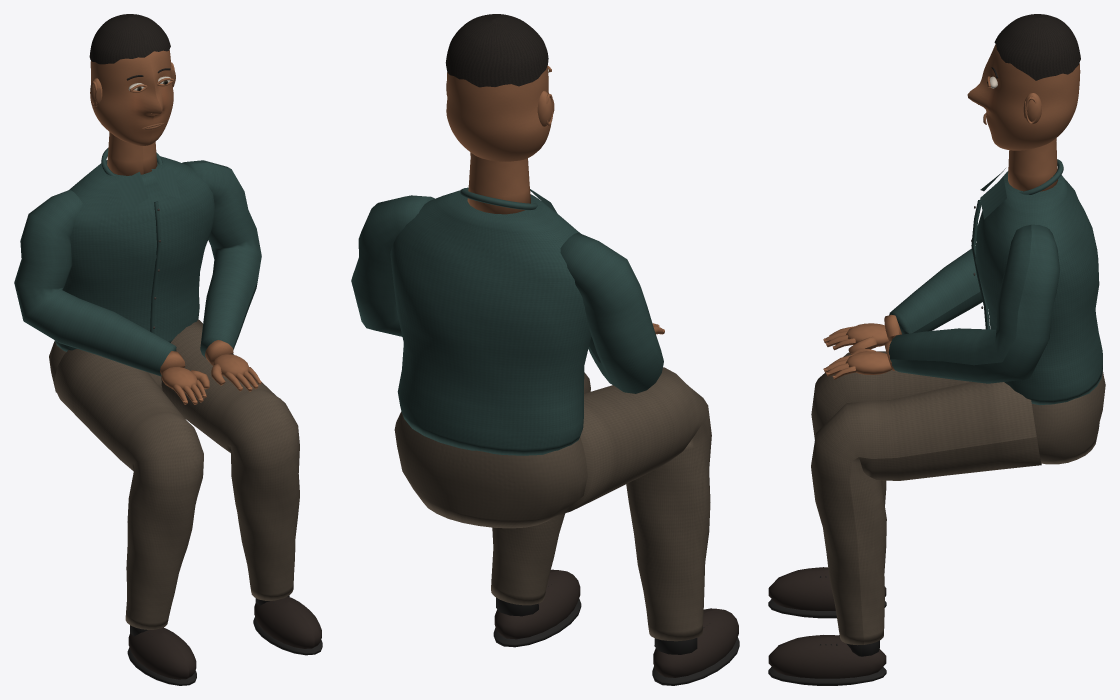
Rendered from 09_Samir_LOD1.glb.
3 views of the same model, side by side, from view 1: azimuth 30°, elevation 25°; view 2: azimuth 150°, elevation 25°; view 3: azimuth 270°, elevation 25° (orthographic). The views are drawn at different scales.
Visible parts, largest first — view 1: top, trousers, face, skin, shoes, hair, sole; view 2: top, trousers, face, hair, shoes, skin, sole; view 3: trousers, top, face, shoes, skin, hair, sole.
Boxes of the visible parts, x1=… form: top: x1=14, y1=148, x2=261, y2=376; trousers: x1=49, y1=319, x2=299, y2=629; face: x1=90, y1=50, x2=173, y2=145; skin: x1=90, y1=62, x2=261, y2=404; shoes: x1=128, y1=596, x2=321, y2=679; hair: x1=89, y1=14, x2=170, y2=80; sole: x1=127, y1=595, x2=322, y2=685; top: x1=351, y1=187, x2=663, y2=455; trousers: x1=394, y1=367, x2=711, y2=641; face: x1=446, y1=66, x2=551, y2=161; hair: x1=445, y1=14, x2=548, y2=87; shoes: x1=494, y1=569, x2=738, y2=677; skin: x1=446, y1=65, x2=664, y2=334; sole: x1=493, y1=584, x2=739, y2=685; trousers: x1=811, y1=351, x2=1105, y2=645; top: x1=888, y1=159, x2=1102, y2=405; face: x1=967, y1=44, x2=1080, y2=150; shoes: x1=768, y1=567, x2=886, y2=678; skin: x1=823, y1=76, x2=1057, y2=379; hair: x1=991, y1=14, x2=1080, y2=80; sole: x1=768, y1=567, x2=886, y2=685.
Bounding box in the file's own units: 0.6158 × 1.42 × 0.6894.
Materials: 13 (13 with a texture image).
